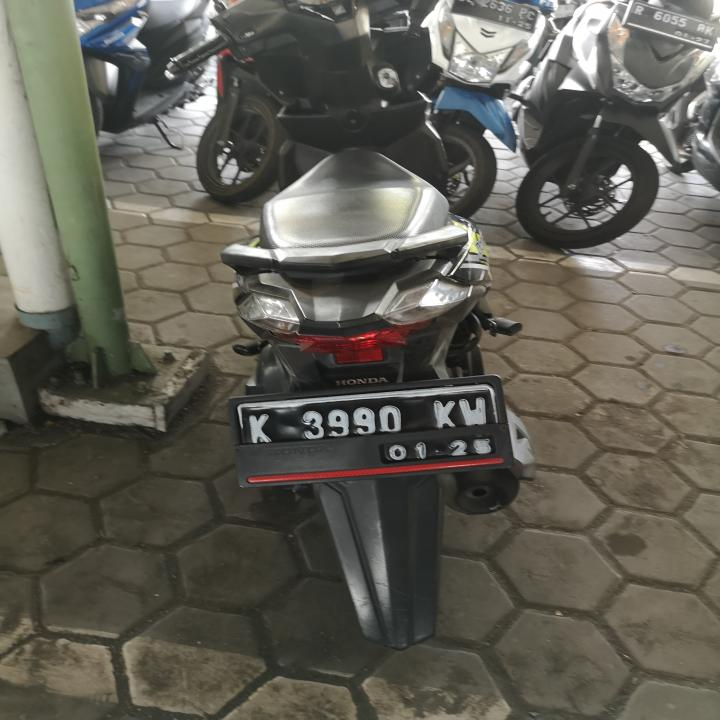plate: (234, 382, 505, 473), (622, 0, 720, 53), (450, 0, 539, 33)
